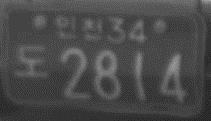1: (126, 53, 151, 100)
2: (60, 47, 91, 99)
3: (107, 16, 125, 43)
4: (159, 53, 188, 103), (129, 19, 147, 43)
8: (93, 48, 121, 99)
도: (13, 46, 49, 79)
인천_O: (53, 13, 104, 41)
